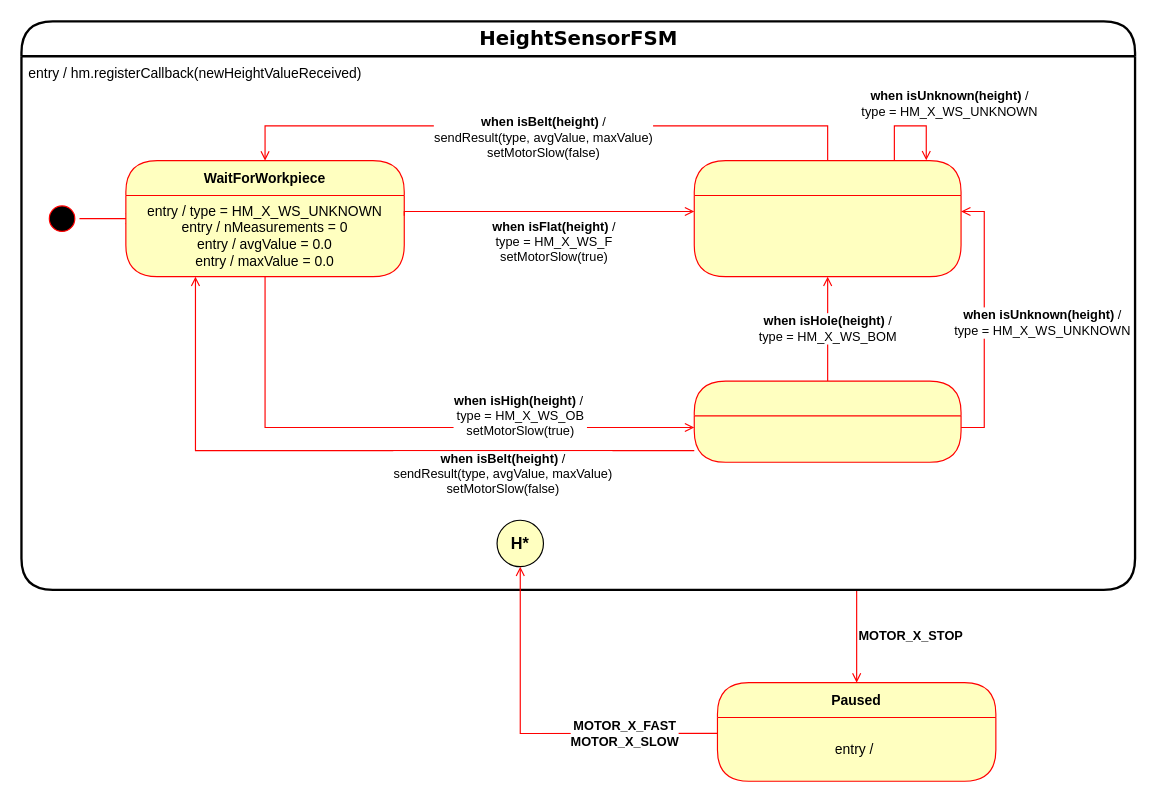
Some shapes in this 1155 by 802 pixel diagram are drawn without their labels. The shapes that lost their labels are listed below. From the top down, each one's centre as x and y in pixels, then its label:
(x=827, y=218): WaitForBelt
(x=827, y=421): High
